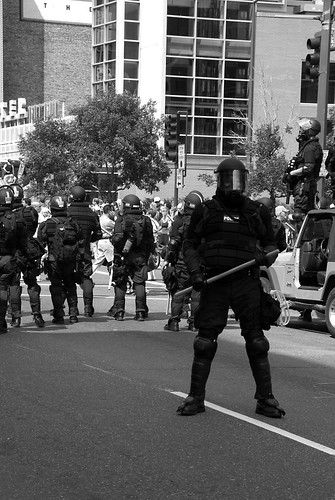building: (96, 1, 316, 180)
policeman: (180, 154, 290, 419), (109, 188, 159, 320), (286, 115, 330, 235), (67, 184, 104, 316), (41, 197, 78, 329), (6, 186, 43, 318)
street: (1, 306, 335, 500)
tree: (25, 94, 167, 200)
